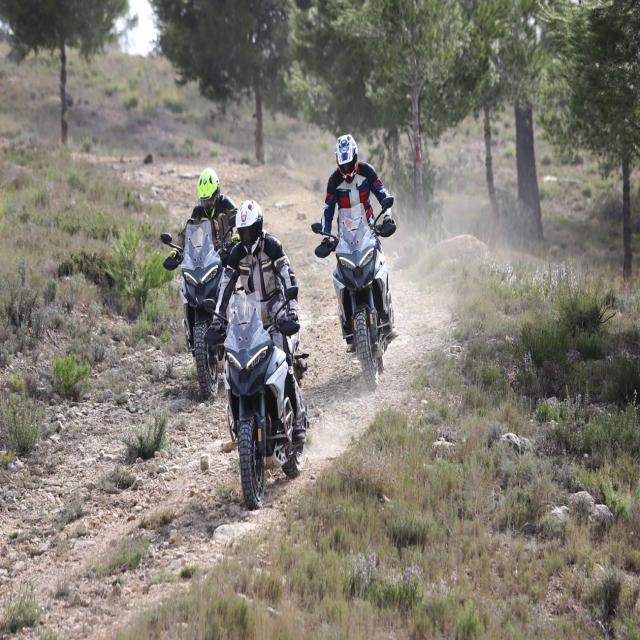MOTORCYCLE: (222, 299, 302, 503), (172, 221, 225, 394), (333, 234, 392, 380)
